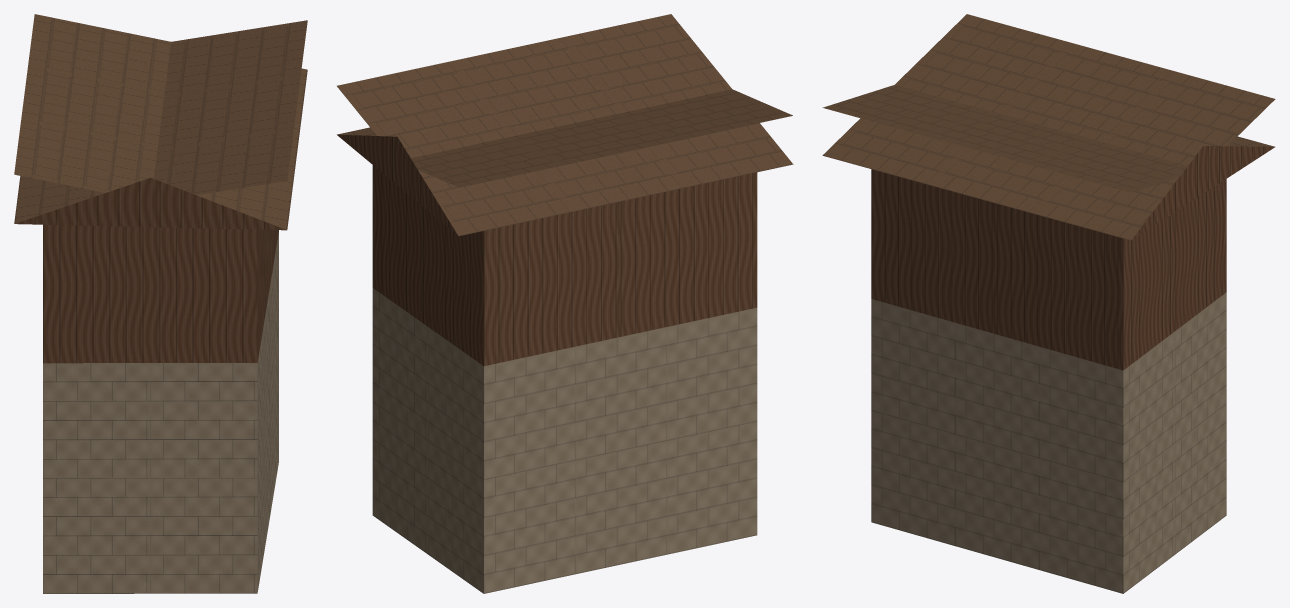
File: bld_c2_6_493.gltf
3 renders of one model, left to right at view 1: azimuth 30°, elevation 25°; view 2: azimuth 150°, elevation 25°; view 3: azimuth 270°, elevation 25°, orthographic. The views are drawn at different scales.
Visible parts, largest first — view 1: bld_c2_6_493; view 2: bld_c2_6_493; view 3: bld_c2_6_493.
Part boxes in pixels (x1,y1,x2,y2): bld_c2_6_493: [14, 14, 307, 593]; bld_c2_6_493: [337, 14, 793, 593]; bld_c2_6_493: [822, 14, 1275, 593].
Size of the model in its own units: 8.01 by 8.7 by 8.58.
Materials: 4 (4 with a texture image).
